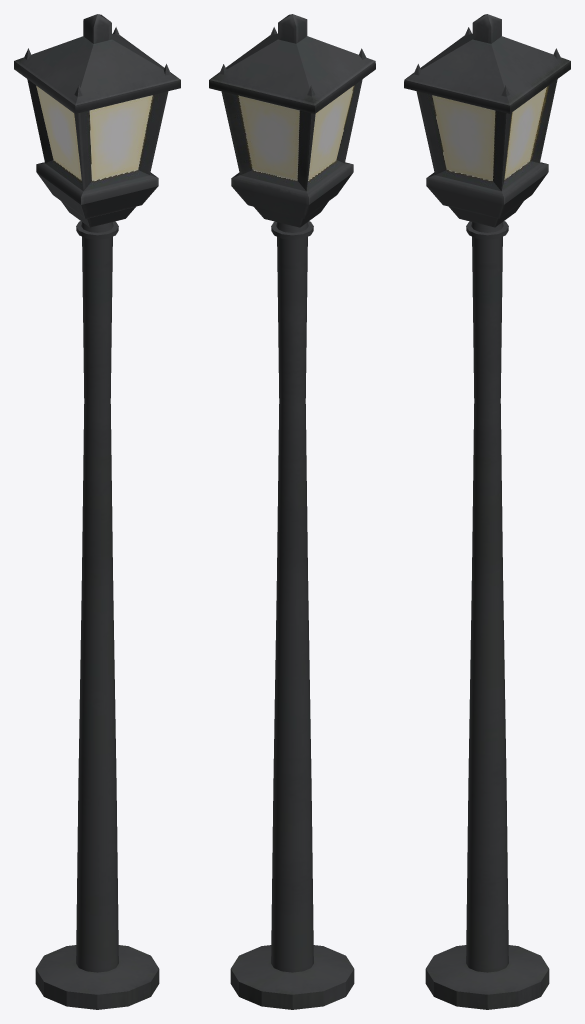
The model's file is Builder_Brawl_lamp.fbx.
The picture shows the model from 3 angles, left to right: view 1: azimuth 30°, elevation 25°; view 2: azimuth 150°, elevation 25°; view 3: azimuth 330°, elevation 25°; orthographic projection.
Visible parts, largest first — view 1: Lamp_Mesh_01; view 2: Lamp_Mesh_01; view 3: Lamp_Mesh_01.
Part boxes in pixels (x1,y1,x2,y2): Lamp_Mesh_01: (14,14,180,1009); Lamp_Mesh_01: (209,14,375,1009); Lamp_Mesh_01: (404,14,570,1009).
Size of the model in its own units: 0.3519 by 3.05 by 0.3519.
